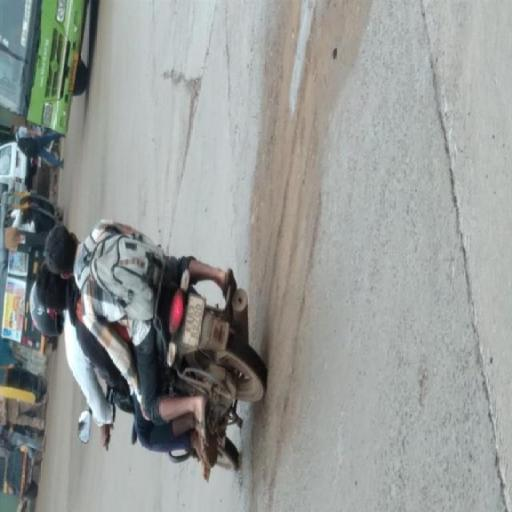tripple riding: (11, 220, 164, 434)
